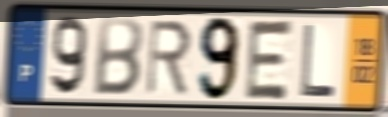9: (196, 14, 244, 103), (48, 14, 90, 98)
B: (90, 15, 146, 99)
E: (242, 18, 296, 103)
L: (299, 21, 338, 100)
R: (144, 18, 194, 99)
